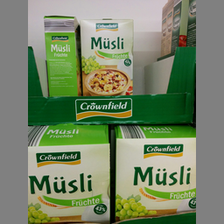cereal: (28, 123, 110, 223), (115, 124, 198, 219), (80, 19, 135, 96), (45, 15, 78, 96)
